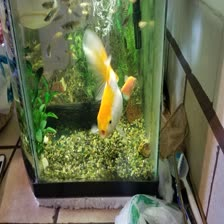Cuezo: (80, 31, 127, 139)
